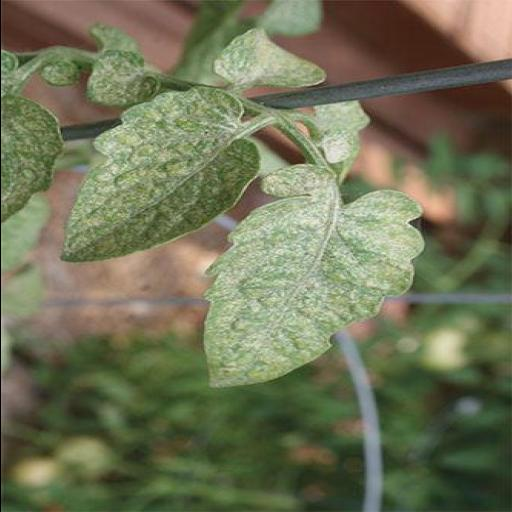Spider Mites: (195, 162, 423, 390), (55, 87, 263, 265)
